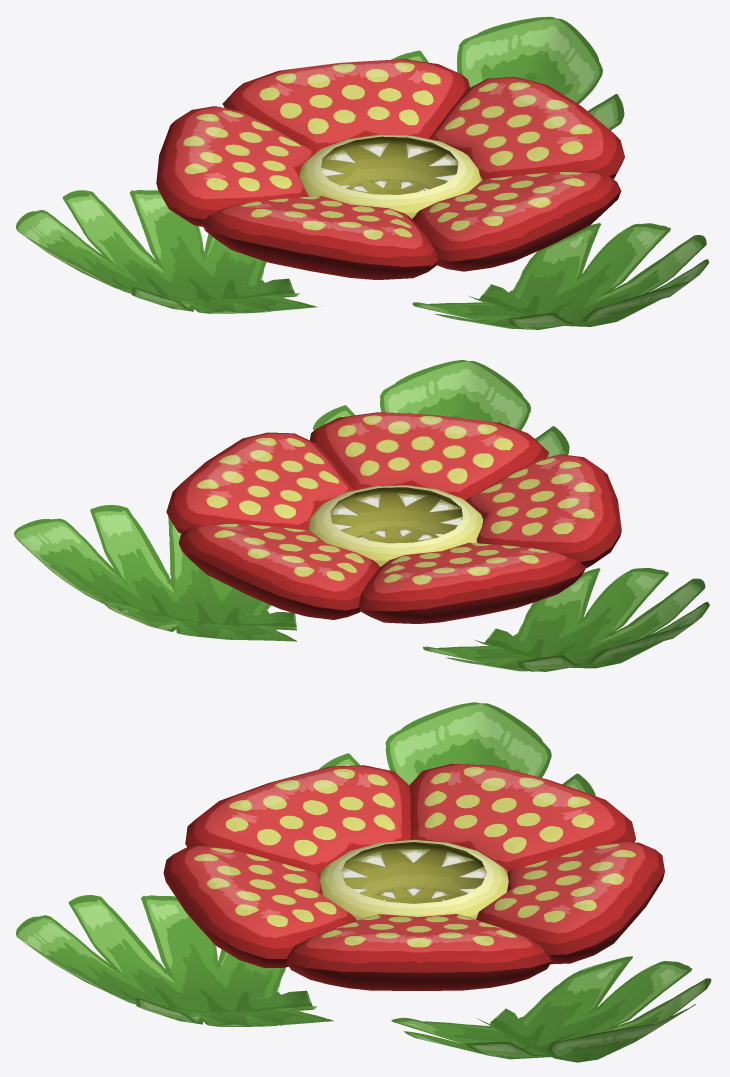
The model's file is CorpseLily.fbx.
3 views of the same model, one above another, from view 1: azimuth 30°, elevation 25°; view 2: azimuth 150°, elevation 25°; view 3: azimuth 270°, elevation 25° (orthographic). The views are drawn at different scales.
Parts seen in each view (by area): view 1: CorpseLily; view 2: CorpseLily; view 3: CorpseLily.
Boxes of the visible parts, x1,y1,x2,y2 form: CorpseLily: (16,16,709,329); CorpseLily: (14,360,709,671); CorpseLily: (16,702,711,1062).
Size of the model in its own units: 0.9935 by 0.1932 by 0.9062.
